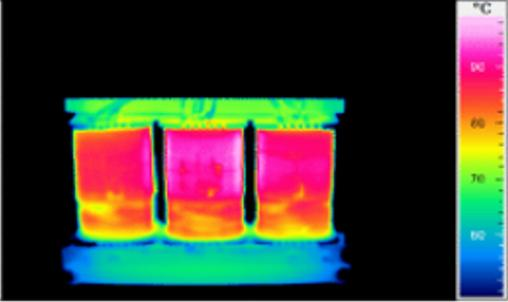Loose Joint -Faulty: (74, 124, 333, 246)
